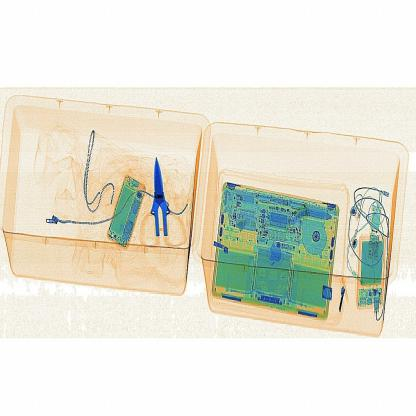gun: (131, 148, 195, 263)
